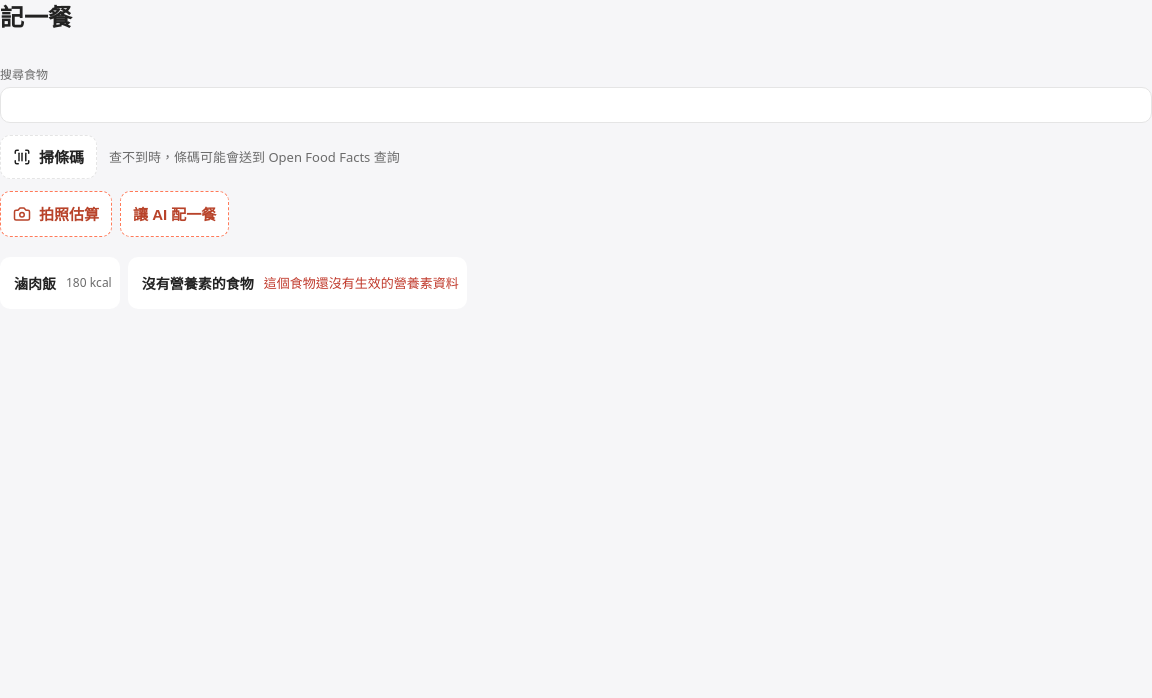
Scenario: 記一餐 › quantity 格式錯誤不會被誤報成金額格式不對
Click the button "滷肉飯": [35, 283] box [8,261,62,305]
(page scrolled)
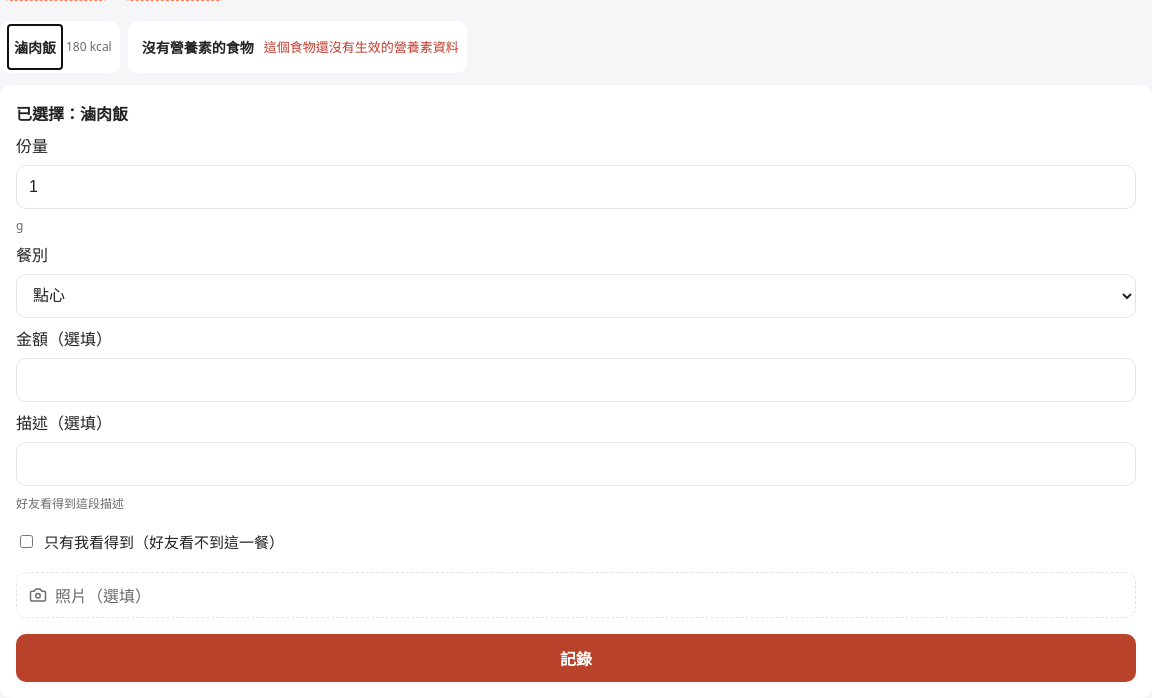
Click the button "記錄": [576, 658] box [16,634,1136,682]
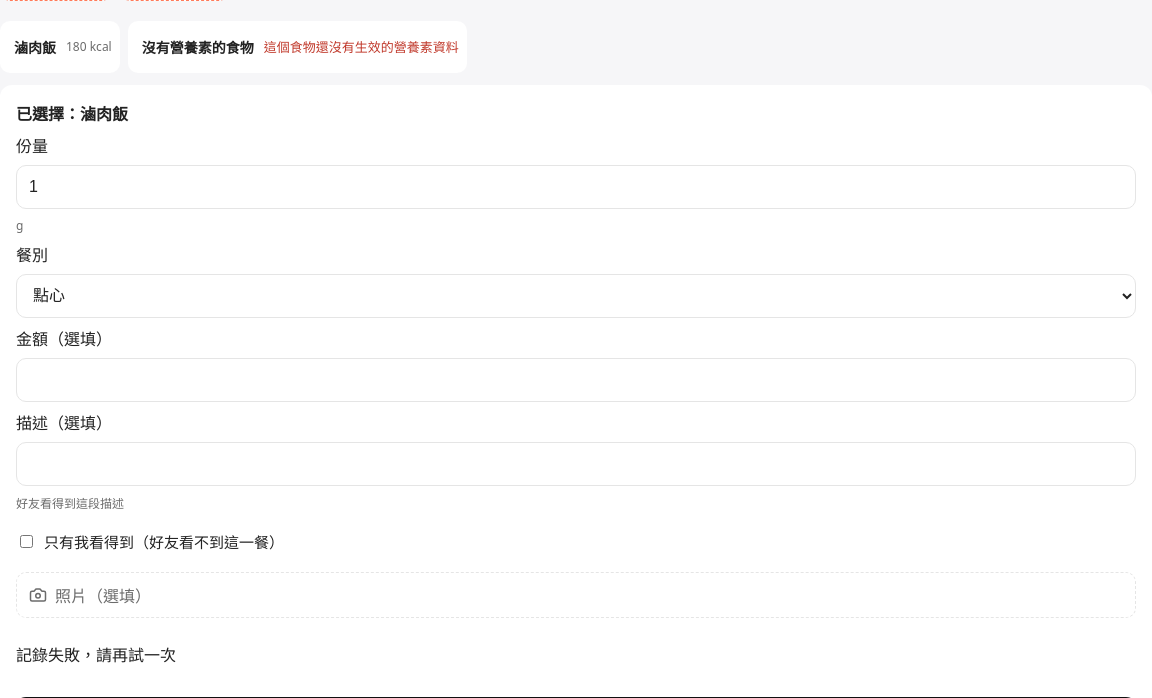
Expected: the text "記錄失敗，請再試一次" is shown, [16,644,176,666]
